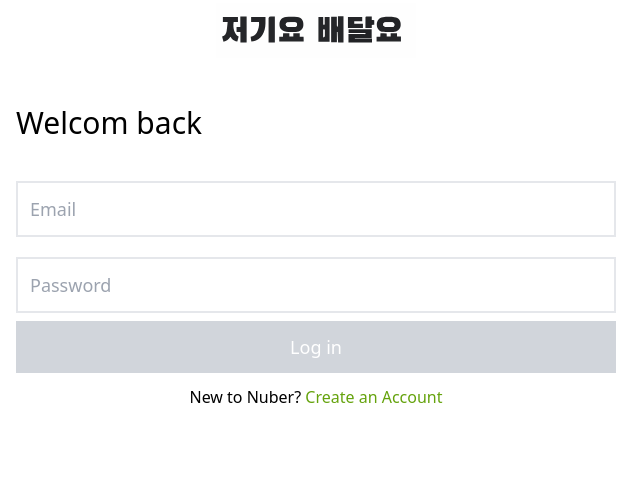
Test case: Log In › can see email / password validation errors
Type "bad@email" into the field with placeholder "Email" at (316, 209), box [16, 181, 616, 237]
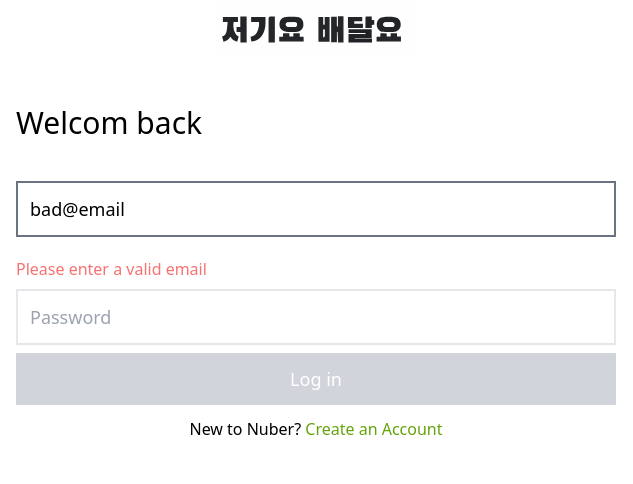
Check: the text "Please enter a valid email" is shown, box [16, 258, 207, 280]
Clear the field with placeholder "Email" at (316, 209), box [16, 181, 616, 237]
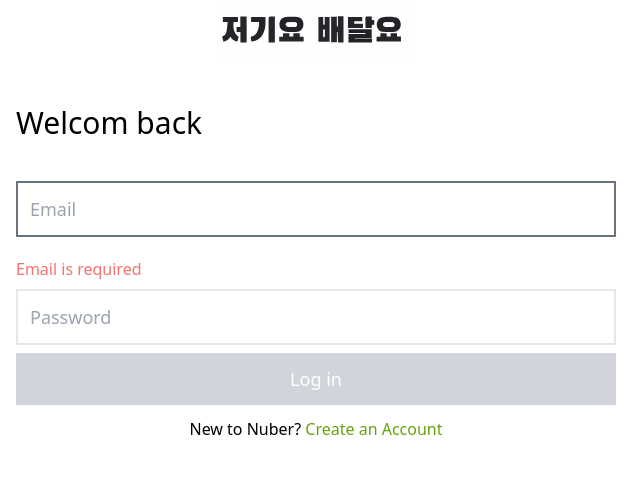
Check: the text "Email is required" is shown, box [16, 258, 142, 280]
Type "bad@email" into the field with placeholder "Email" at (316, 209), box [16, 181, 616, 237]
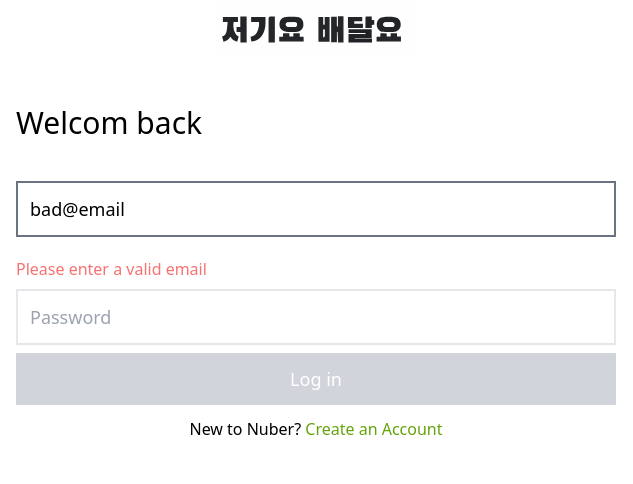
Type "a" into the password field with placeholder "Password" at (316, 317), box [16, 289, 616, 345]
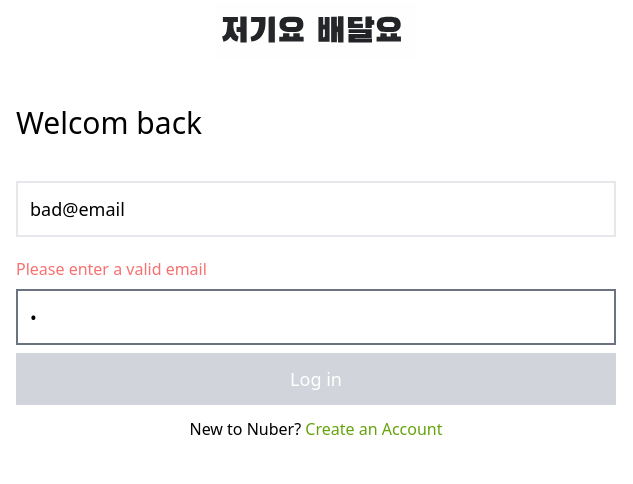
Clear the password field with placeholder "Password" at (316, 317), box [16, 289, 616, 345]
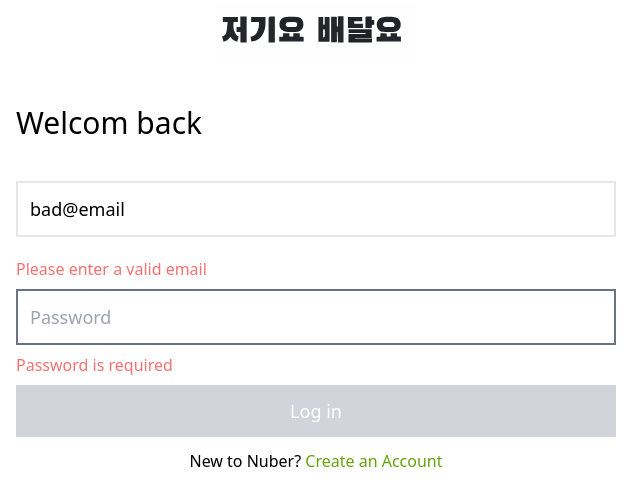
Check: the text "Password is required" is shown, box [16, 354, 173, 376]
